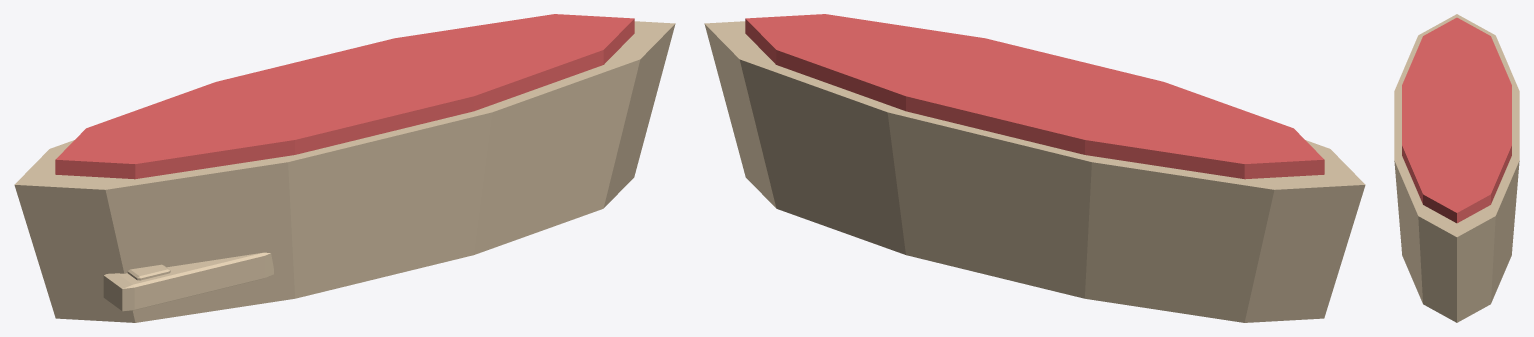
File: b16_rolled_newspaper.glb
The picture shows the model from 3 angles, left to right: view 1: azimuth 30°, elevation 25°; view 2: azimuth 150°, elevation 25°; view 3: azimuth 270°, elevation 25°; orthographic projection. The views are drawn at different scales.
Parts seen in each view (by area): view 1: b16_rolled_newspaper; view 2: b16_rolled_newspaper; view 3: b16_rolled_newspaper.
Part boxes in pixels (bbox=[...]): b16_rolled_newspaper: bbox=[14, 14, 675, 322]; b16_rolled_newspaper: bbox=[704, 14, 1365, 322]; b16_rolled_newspaper: bbox=[1394, 14, 1519, 322].
Size of the model in its own units: 0.27 by 0.062 by 0.064.
